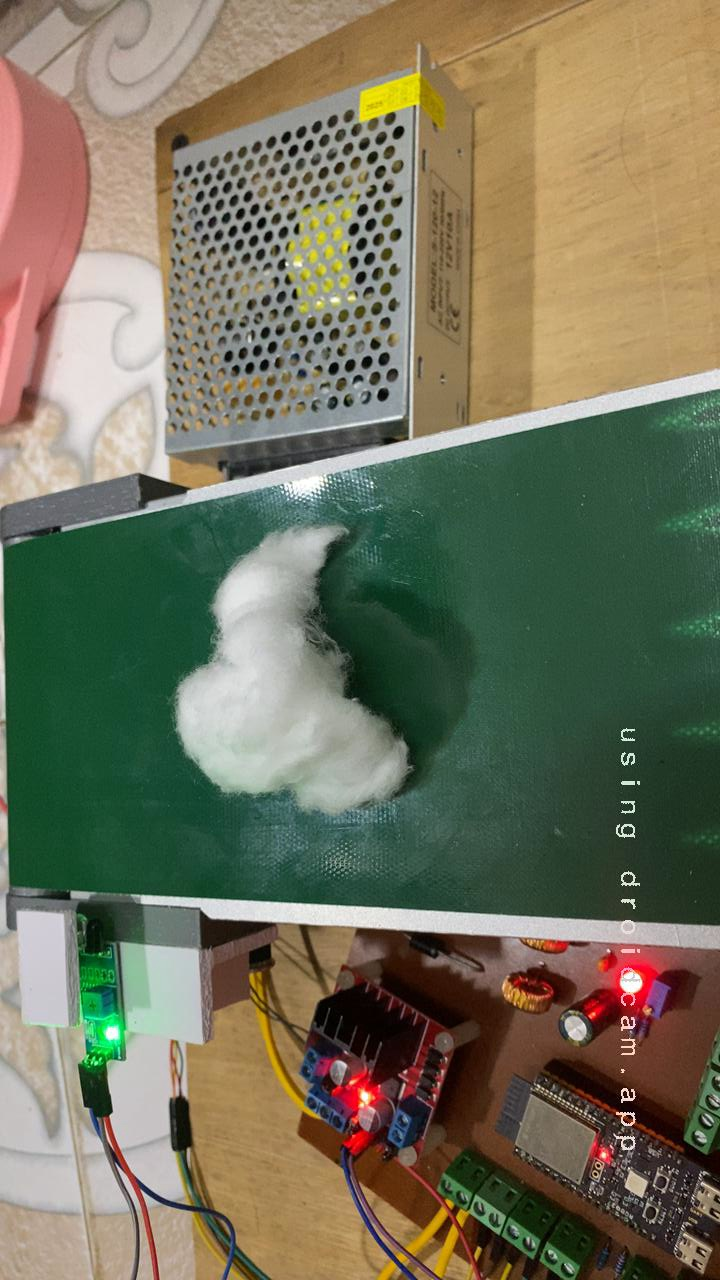cotton: (137, 499, 435, 841)
